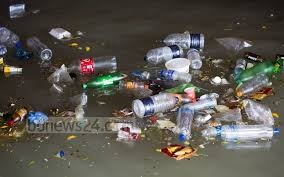plastic: (58, 51, 123, 80), (199, 118, 280, 140), (132, 90, 184, 119), (233, 56, 282, 86), (157, 30, 212, 51), (140, 43, 190, 66), (81, 69, 128, 92), (25, 35, 56, 66), (173, 103, 197, 141), (155, 68, 193, 83)
